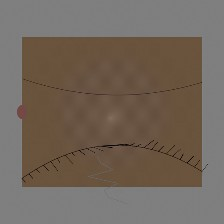foreign_body_visible: (120, 117, 155, 145)
